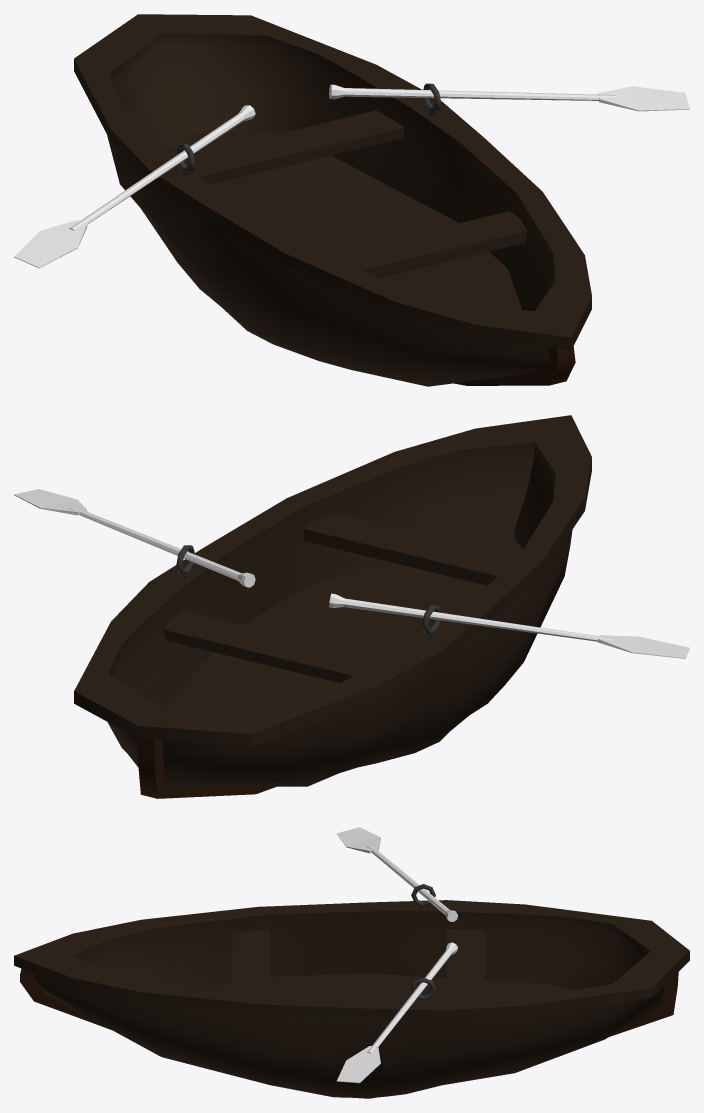
Rendered from playerBoat.fbx.
The picture shows the model from 3 angles, top to bottom: view 1: azimuth 30°, elevation 25°; view 2: azimuth 150°, elevation 25°; view 3: azimuth 270°, elevation 25°; orthographic projection. The views are drawn at different scales.
Parts seen in each view (by area): view 1: Cube.004, Cylinder; view 2: Cube.004, Cylinder; view 3: Cube.004, Cylinder.
Boxes of the visible parts, bbox=[...] form: Cube.004: bbox=[74, 14, 591, 386]; Cylinder: bbox=[14, 84, 689, 268]; Cube.004: bbox=[74, 415, 591, 798]; Cylinder: bbox=[14, 489, 689, 658]; Cube.004: bbox=[14, 884, 689, 1098]; Cylinder: bbox=[336, 827, 457, 1083].
Size of the model in its own units: 1781 by 538 by 1990.
